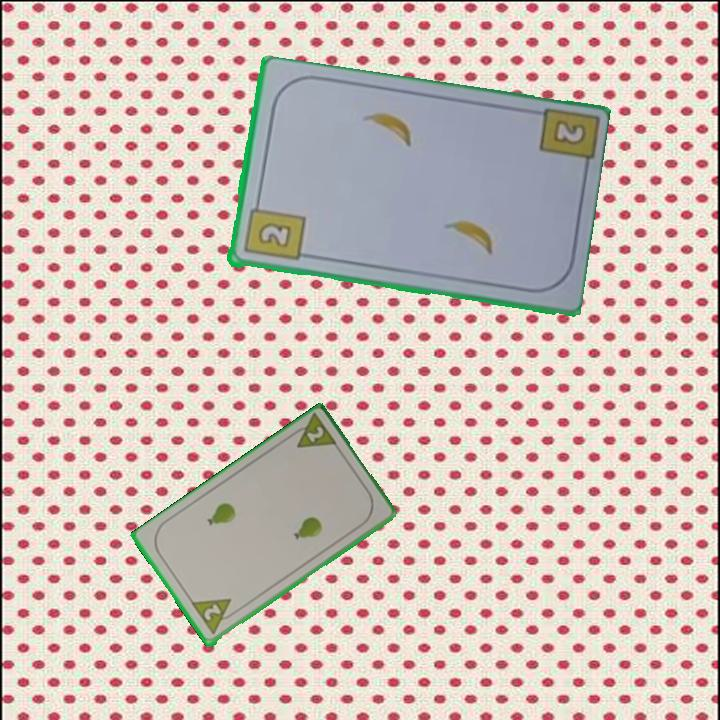2b: (240, 196, 307, 264), (549, 116, 589, 149)
2p: (285, 411, 341, 452), (188, 595, 241, 638)
